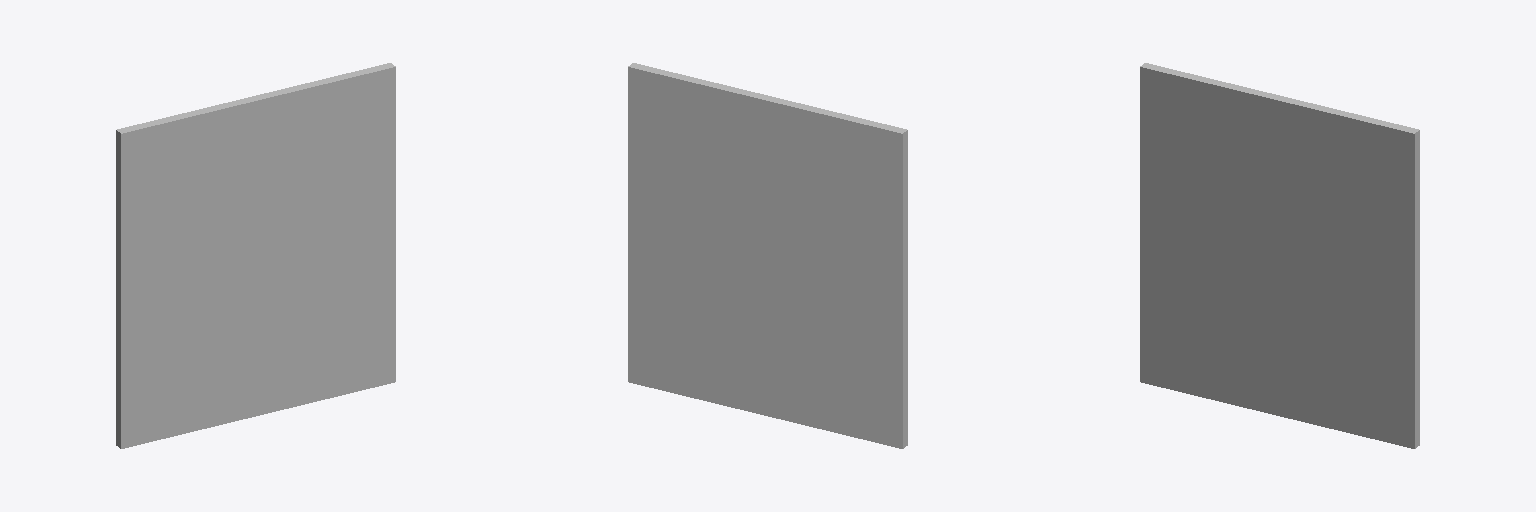
3 renders of one model, left to right at view 1: azimuth 30°, elevation 25°; view 2: azimuth 150°, elevation 25°; view 3: azimuth 330°, elevation 25°, orthographic.
Visible parts, largest first — view 1: Abstract-Art_Pointalist-1; view 2: Abstract-Art_Pointalist-1; view 3: Abstract-Art_Pointalist-1.
Boxes of the visible parts, box(x1,y1,x2,y2) form: Abstract-Art_Pointalist-1: box(116, 63, 395, 448); Abstract-Art_Pointalist-1: box(628, 63, 907, 448); Abstract-Art_Pointalist-1: box(1140, 63, 1419, 448).
Size of the model in its own units: 1 by 1.1 by 0.035.
2 materials, 1 textured.